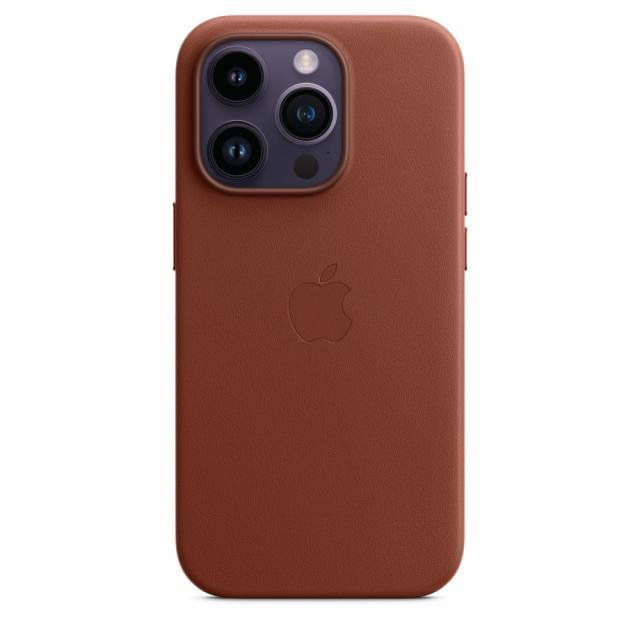phone: (171, 12, 467, 600)
